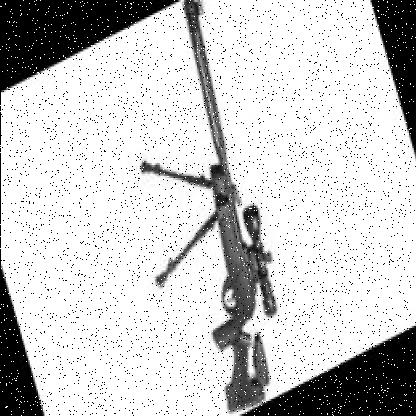rifle: (118, 0, 324, 416)
